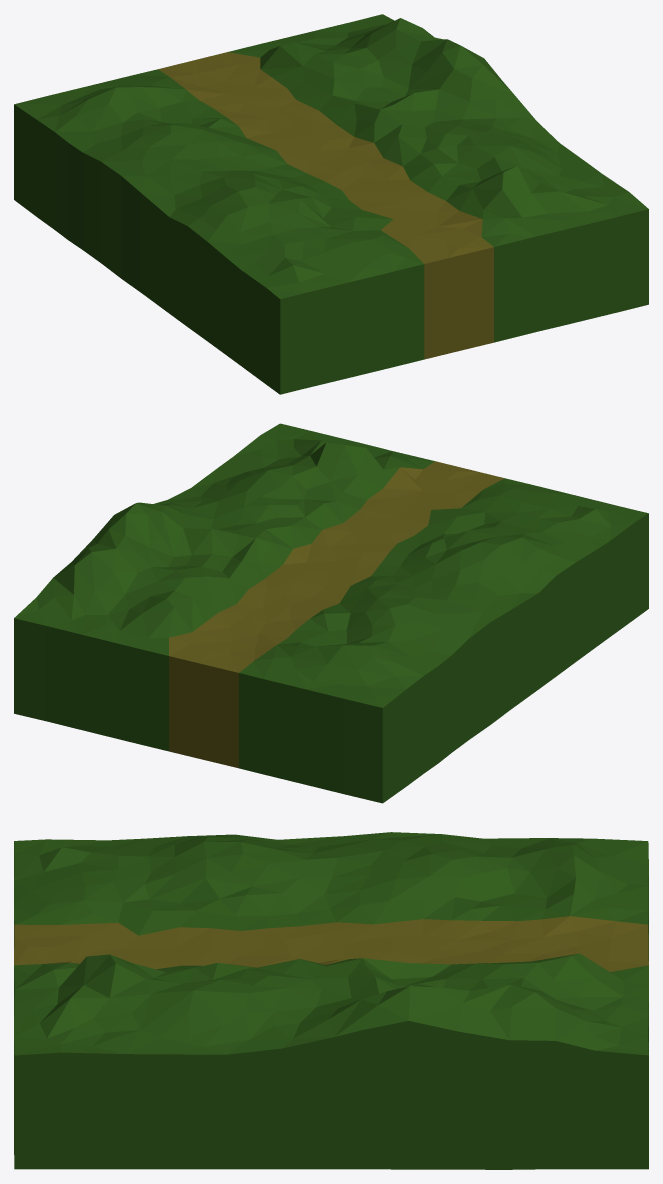
Rendered from Terrain.fbx.
3 views of the same model, one above another, from view 1: azimuth 30°, elevation 25°; view 2: azimuth 150°, elevation 25°; view 3: azimuth 270°, elevation 25° (orthographic). The views are drawn at different scales.
Parts seen in each view (by area): view 1: Terrain; view 2: Terrain; view 3: Terrain.
Boxes of the visible parts, x1=… form: Terrain: x1=14, y1=14, x2=648, y2=394; Terrain: x1=14, y1=423, x2=648, y2=803; Terrain: x1=14, y1=832, x2=648, y2=1169.
Bounding box in the file's own units: 8029 × 2961 × 10003.
